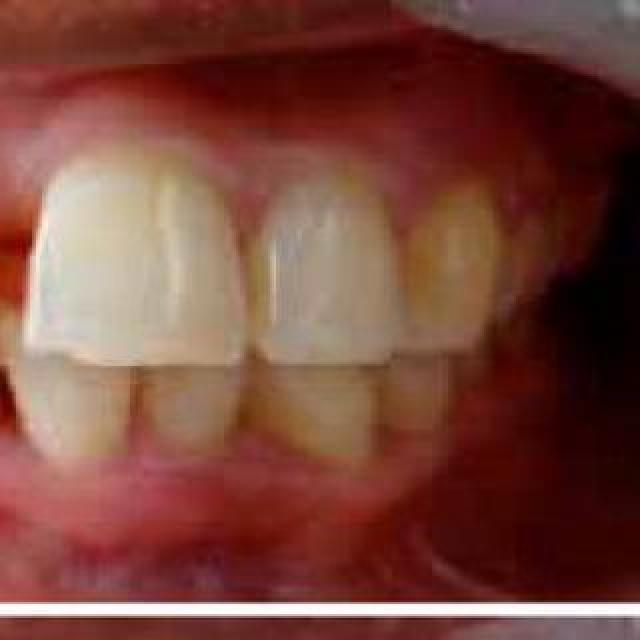spacing: (0, 176, 56, 350), (0, 326, 38, 448)
